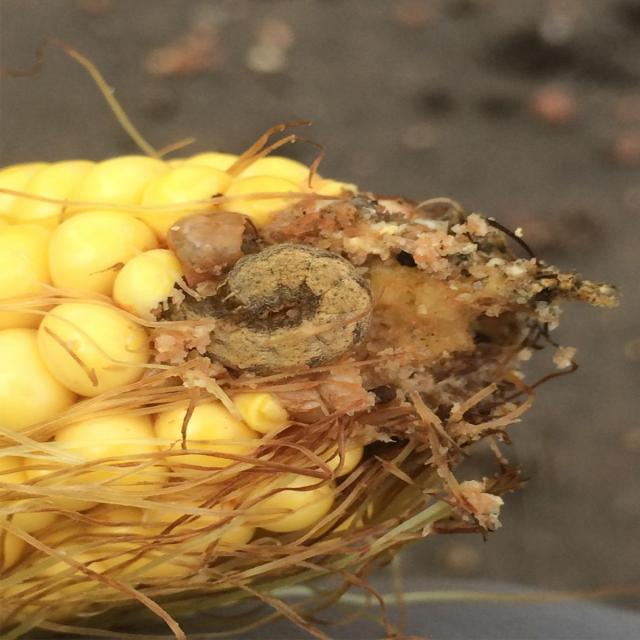Cutworm: (179, 245, 367, 375)
